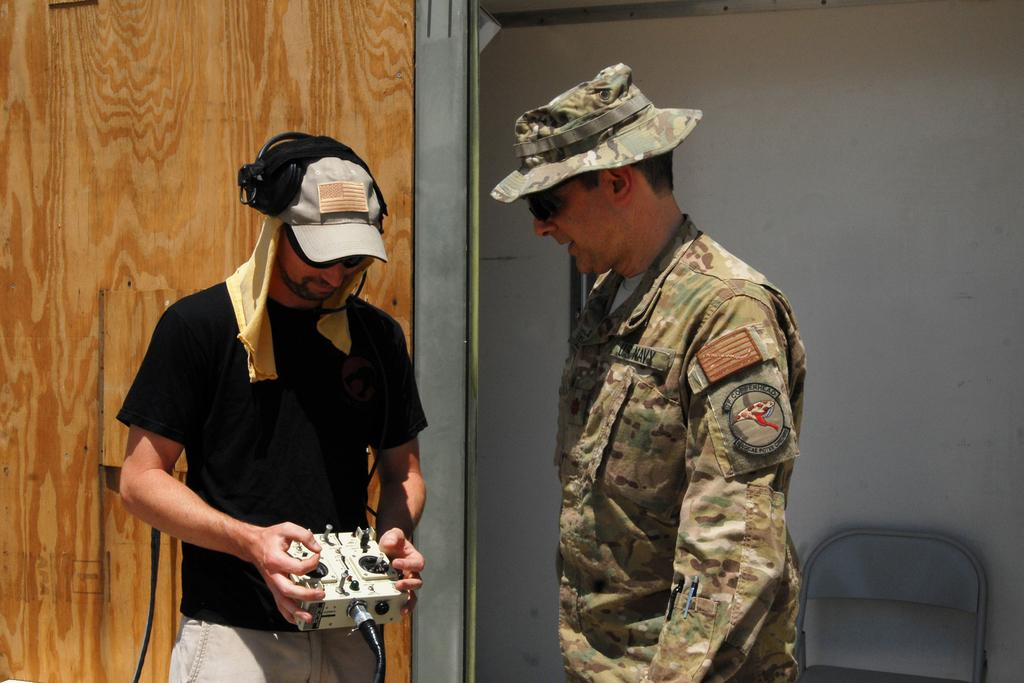Hat: (487, 62, 702, 204), (278, 150, 388, 264)
